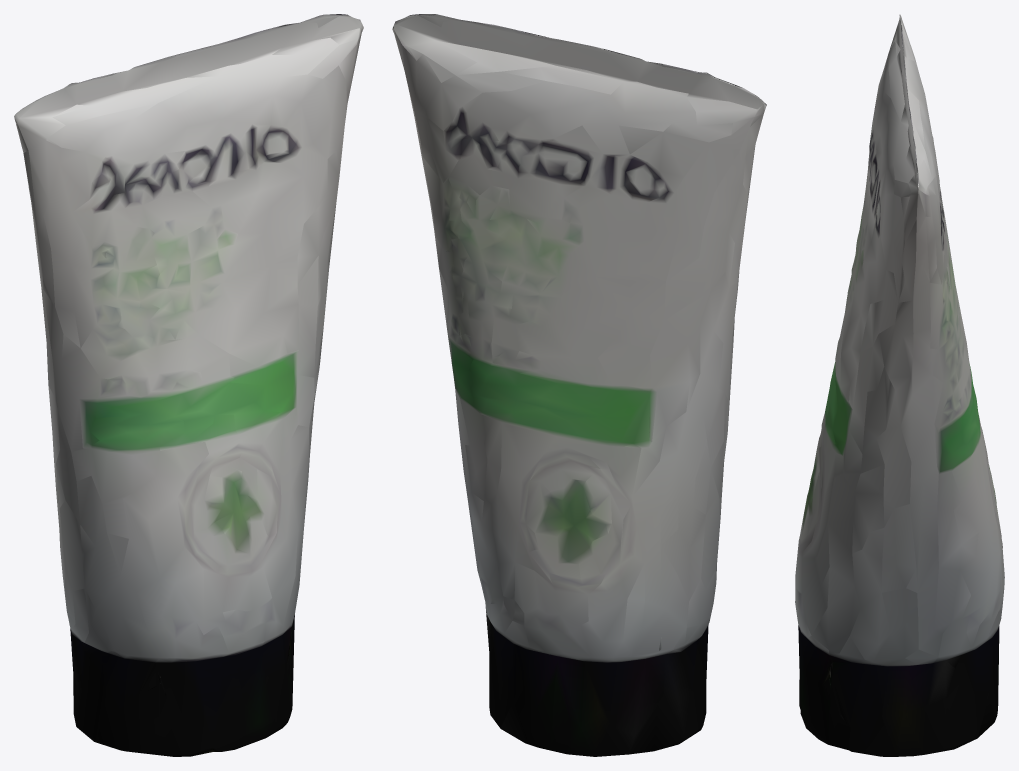
The model's file is 0005_mask_006_white_tube.glb.
3 views of the same model, side by side, from view 1: azimuth 30°, elevation 25°; view 2: azimuth 150°, elevation 25°; view 3: azimuth 270°, elevation 25° (orthographic). The views are drawn at different scales.
Parts seen in each view (by area): view 1: mask_006_object; view 2: mask_006_object; view 3: mask_006_object.
Part boxes in pixels (box(x1,y1,x2,y2)): mask_006_object: box(14, 14, 363, 756); mask_006_object: box(392, 14, 766, 756); mask_006_object: box(795, 14, 1004, 756).
Bounding box in the file's own units: 0.1797 × 0.3147 × 0.0939.
